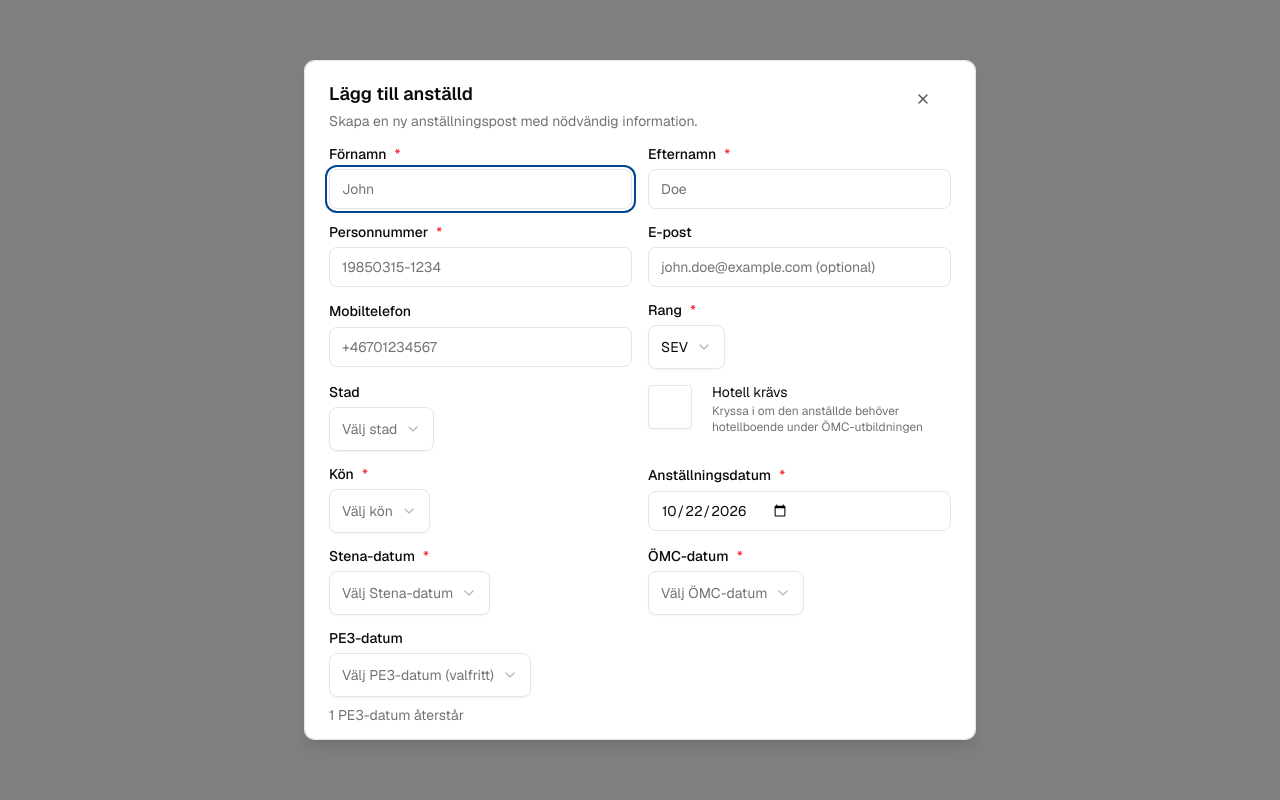
Test: AddEmployeeModal › Date Dropdown Remaining Spots Display › should display remaining spots in parentheses for PE3 dates in dropdown
The image size is (1280, 800).
Note: Open PE3 date dropdown
Click the dropdown labelled "Välj PE3-datum (valfritt)": x=430, y=675 [329, 653, 531, 697]
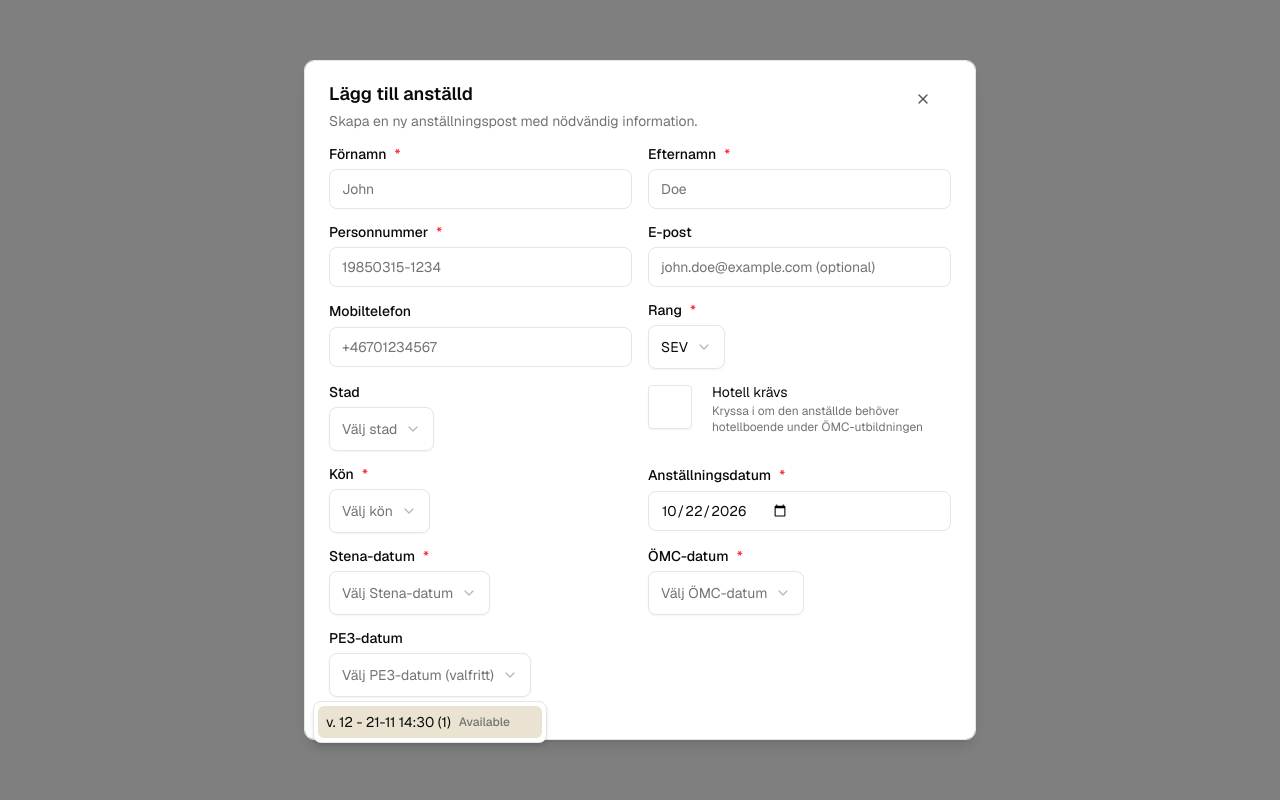
Check: the option "v. 12 - 21-11 14:30 (1) Available" is shown, box [318, 706, 542, 738]
